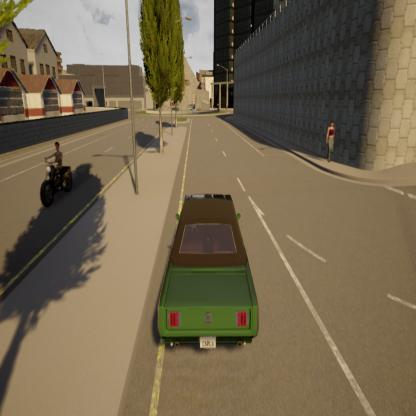Cars: (152, 187, 266, 358), (38, 134, 74, 208)
Pedestrian: (324, 119, 339, 167)
